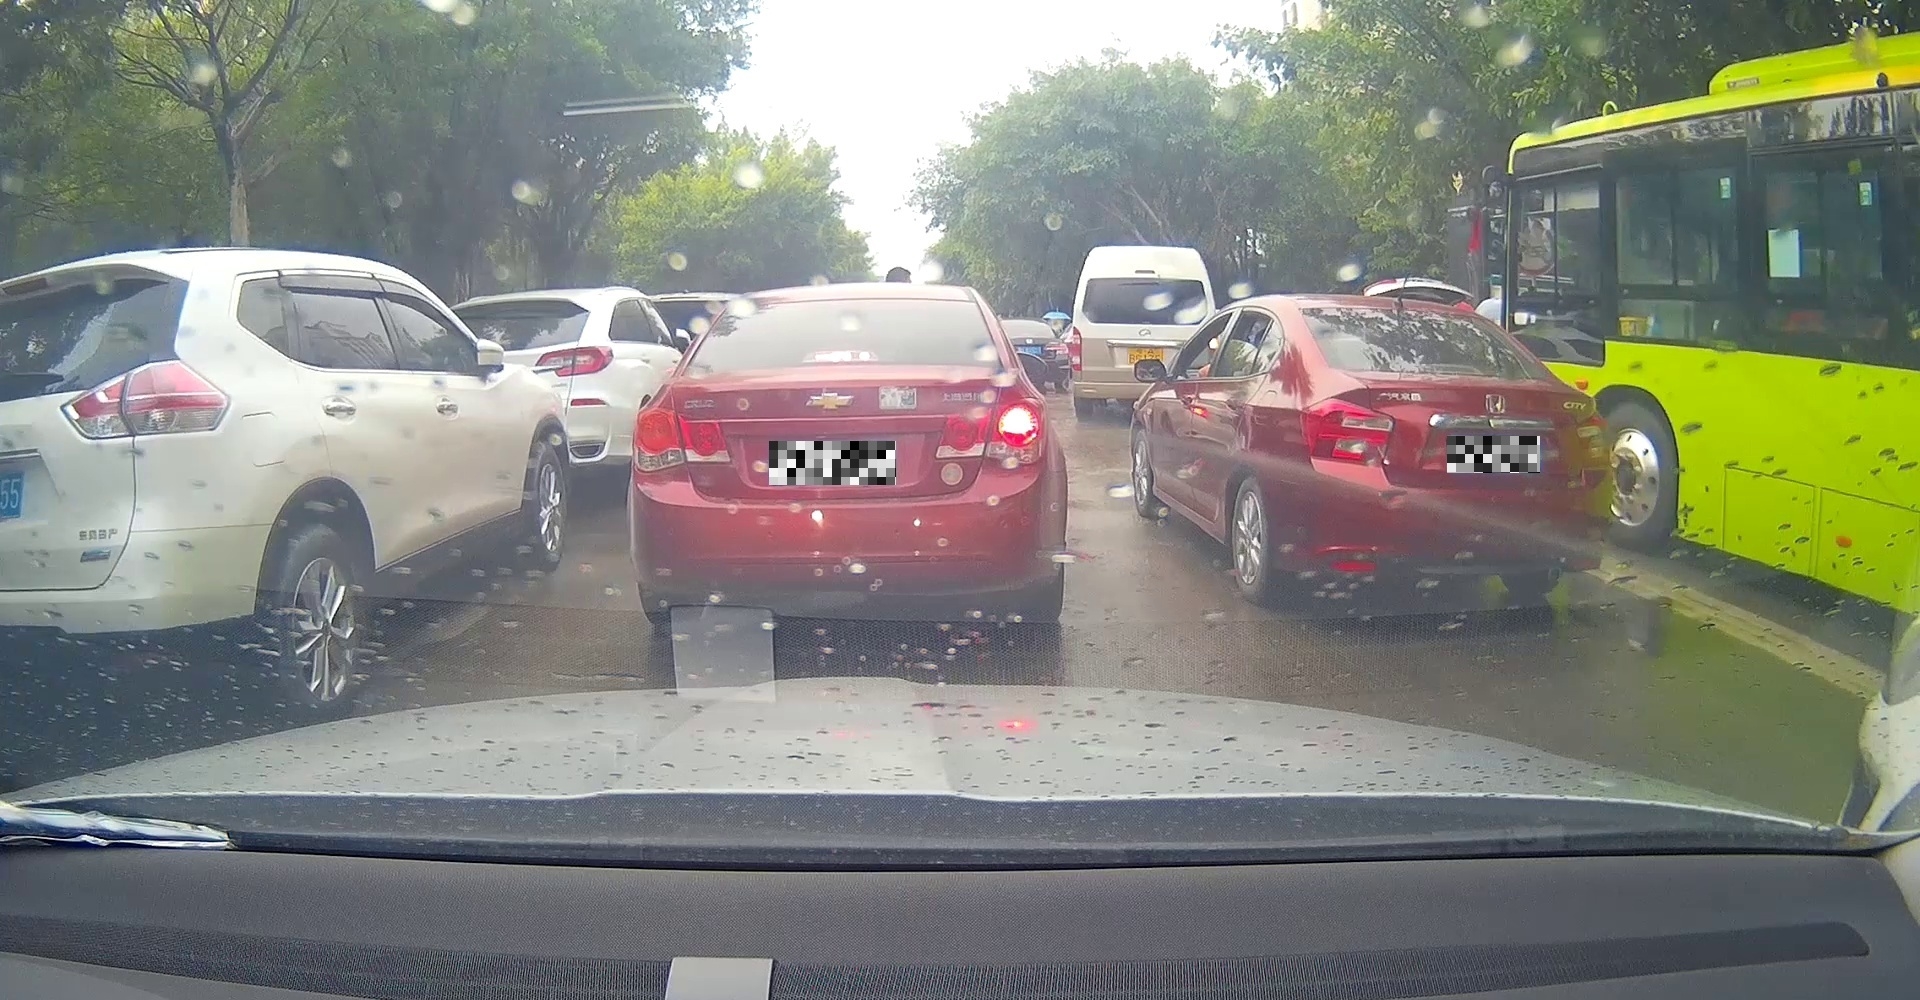L_light: (1299, 397, 1396, 467), (631, 407, 730, 472)
R_light: (935, 398, 1045, 464), (1552, 412, 1610, 471)
T_light: (803, 349, 880, 362), (1418, 364, 1484, 378)
day-no: (1297, 294, 1611, 609)
day-right: (626, 282, 1067, 624)
plate_1: (770, 442, 897, 485)
plate_2: (1448, 437, 1540, 473)
